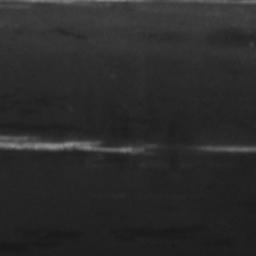Bright scratch: (0, 136, 146, 155), (200, 146, 256, 152)
